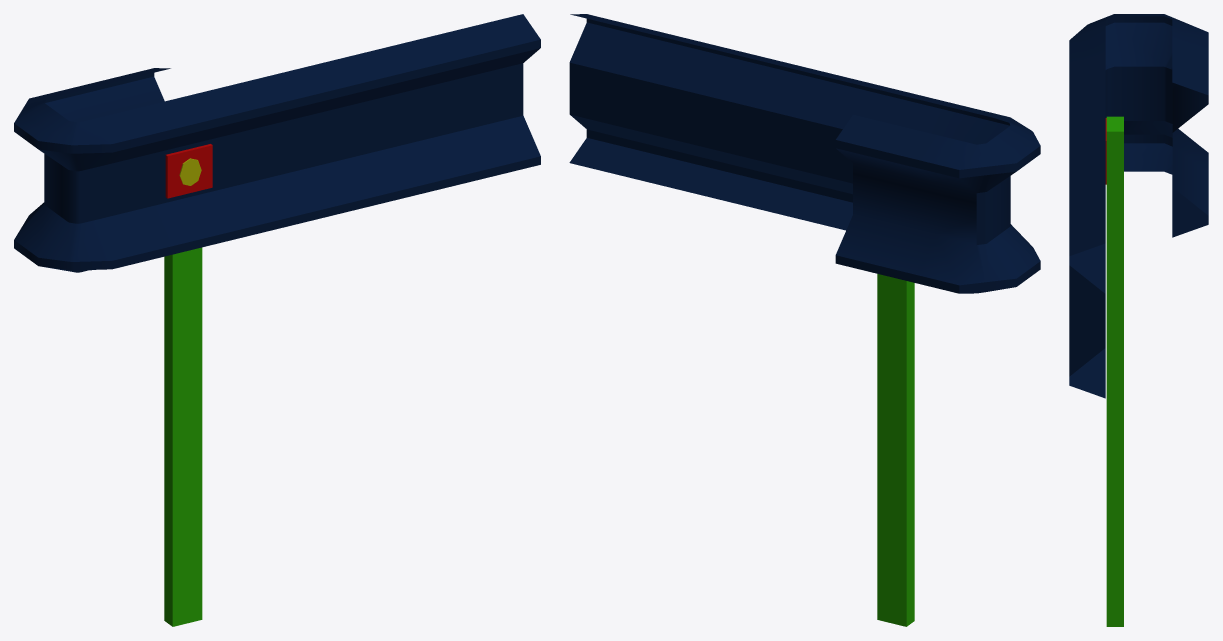
Rendered from End GuardRail.FBX.
3 renders of one model, left to right at view 1: azimuth 30°, elevation 25°; view 2: azimuth 150°, elevation 25°; view 3: azimuth 270°, elevation 25°, orthographic. The views are drawn at different scales.
Visible parts, largest first — view 1: End GuardrailLeft; view 2: End GuardrailLeft; view 3: End GuardrailLeft.
Boxes of the visible parts, left/top/right/bottom form: End GuardrailLeft: left=14, top=14, right=540, bottom=626; End GuardrailLeft: left=569, top=14, right=1040, bottom=626; End GuardrailLeft: left=1069, top=14, right=1208, bottom=626.
Bounding box in the file's own units: 1 × 1.05 × 0.2432.
